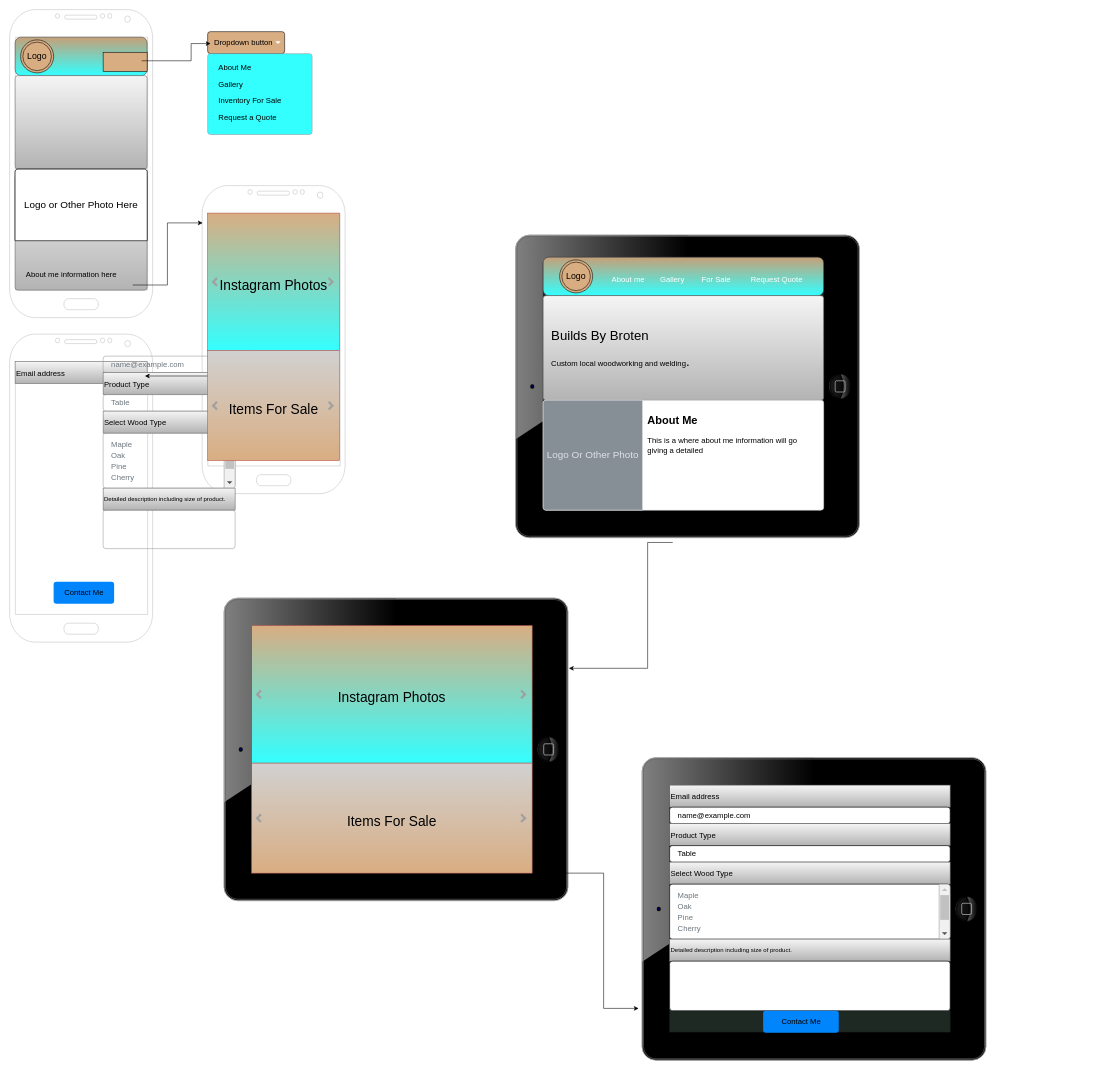
The diagram is 1108 pixels wide and 1070 high, and some of its shapes have lost their labels. Here are the shapes that lost their labels. From the top down, the centre of each, then its label:
At point (125, 62): "Dropdown navigation".
At point (81, 122): "Builds By Broten Custom local woodworking and welding.".
